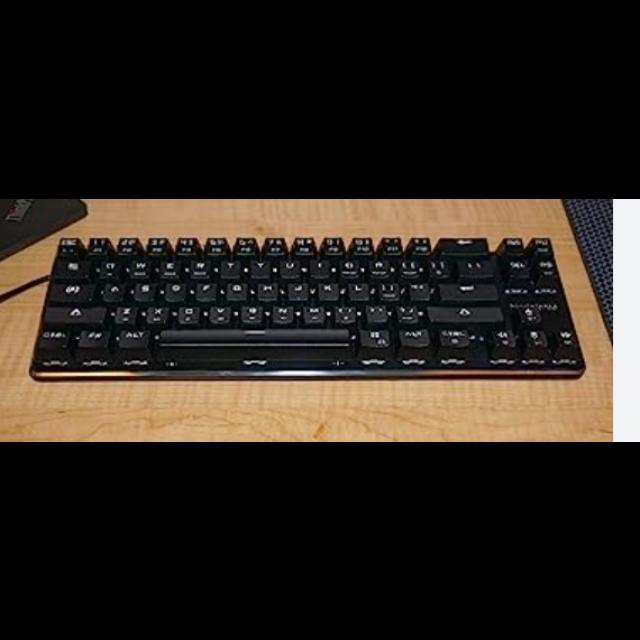Computer-Keyboard: (29, 235, 586, 382)
